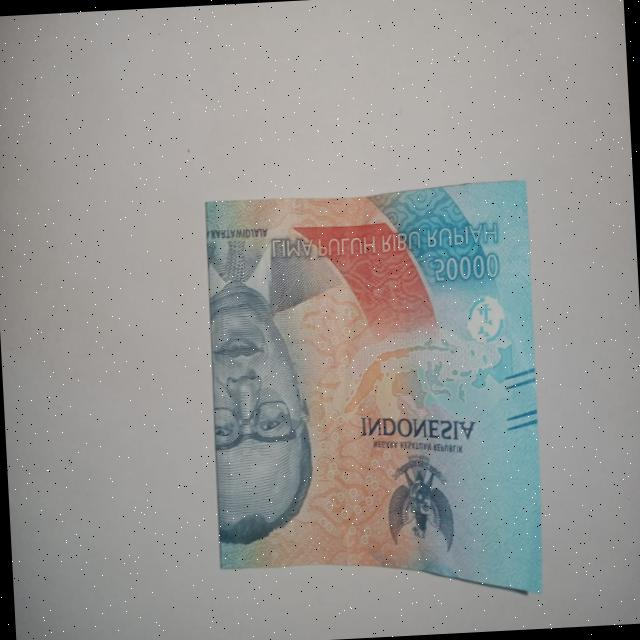50K: (192, 170, 562, 622)
